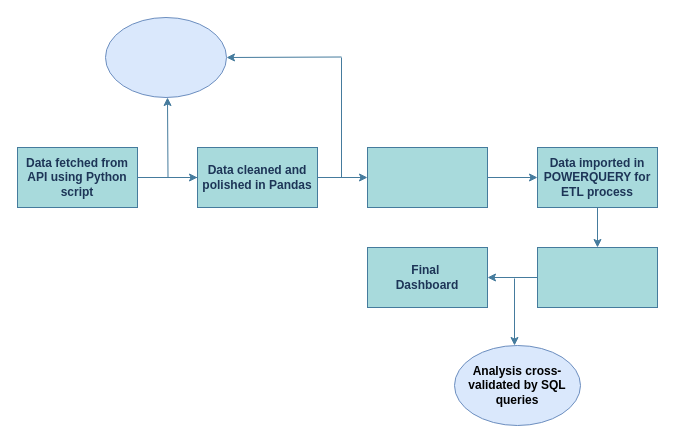
This 675x443 diagram has some shape labels left out. The shapes that lost their labels are listed below. From the top down, each one's centre as x and y in pixels, then its label:
point 165,57: Can be automated with Github action
point 427,177: Data inserted into SQL Server Database
point 597,277: Data analyzed and visualized in Excel
